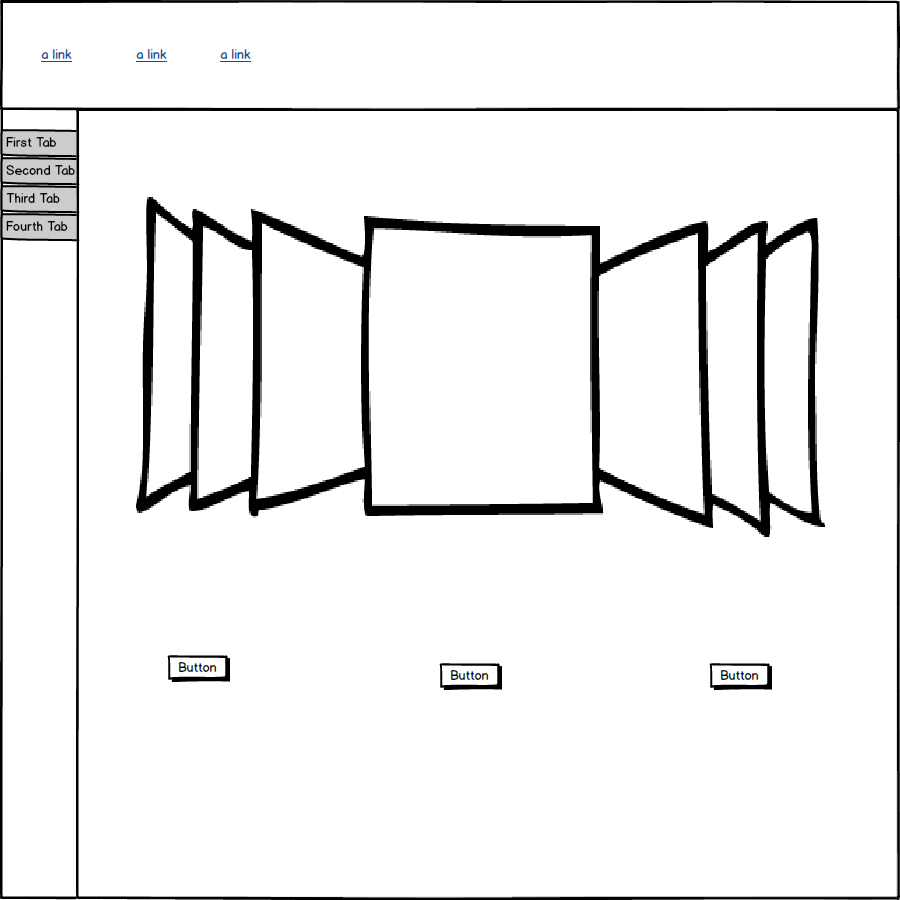button: (419, 651, 516, 701), (705, 652, 779, 699), (156, 648, 239, 686)
navlink: (212, 41, 263, 71), (134, 40, 176, 69), (34, 43, 83, 66)
sidebar: (1, 119, 86, 248)
slideshow: (126, 181, 841, 547)
